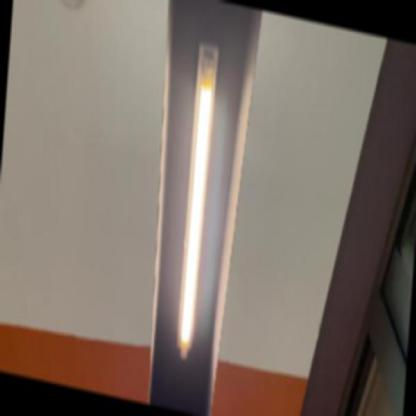light_on: (165, 31, 223, 372)
